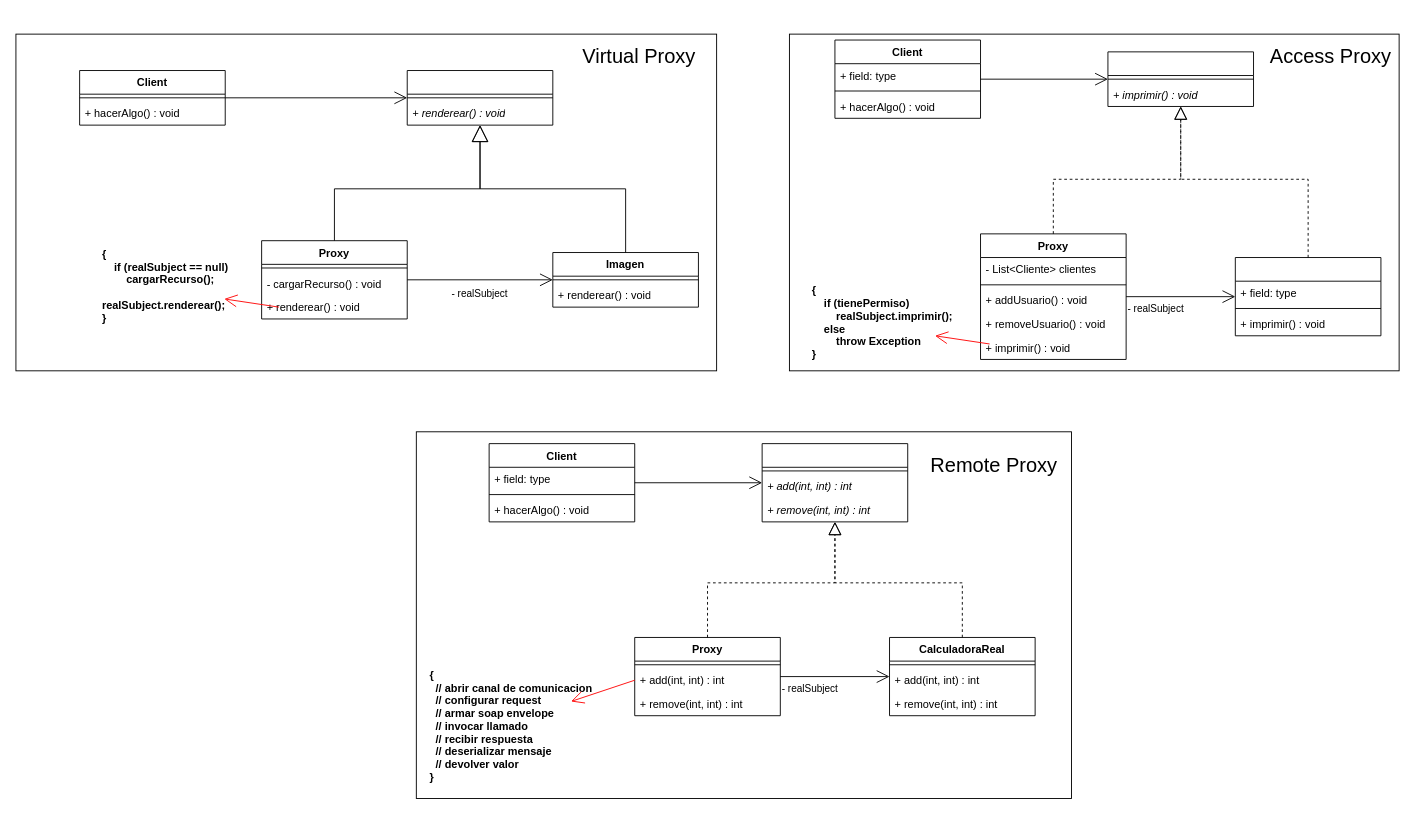
Some shapes in this 1424 by 814 pixel diagram are drawn without their labels. The shapes that lost their labels are listed below. From the top down, each one's box as (x1, y1, x2, y2) in pixels, then its label:
(406, 70, 553, 125): Subject
(1107, 51, 1254, 106): ColaImpresion
(1234, 257, 1381, 336): ColaImpresionReal
(761, 443, 908, 522): Calculadora
